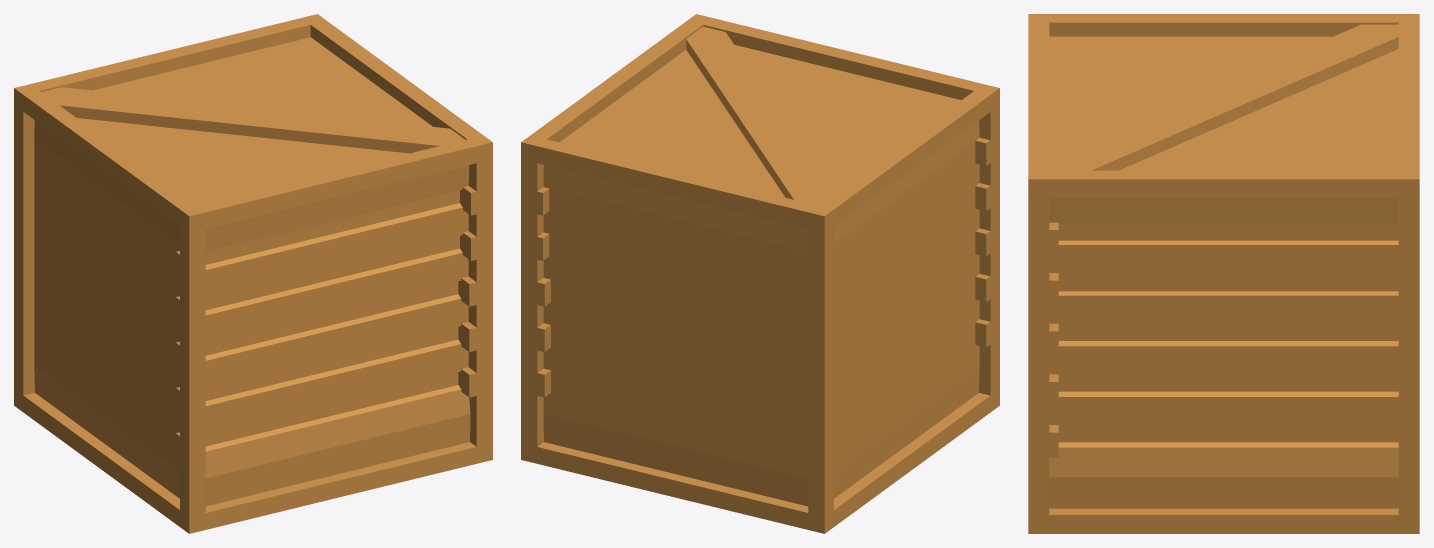
File: crate2.fbx
The picture shows the model from 3 angles, left to right: view 1: azimuth 30°, elevation 25°; view 2: azimuth 150°, elevation 25°; view 3: azimuth 270°, elevation 25°; orthographic projection. The views are drawn at different scales.
Visible parts, largest first — view 1: Cube; view 2: Cube; view 3: Cube.
Part boxes in pixels (x1=…): Cube: x1=14, y1=14, x2=492, y2=533; Cube: x1=521, y1=14, x2=999, y2=533; Cube: x1=1028, y1=14, x2=1419, y2=533.
Bounding box in the file's own units: 214 × 214 × 214.
